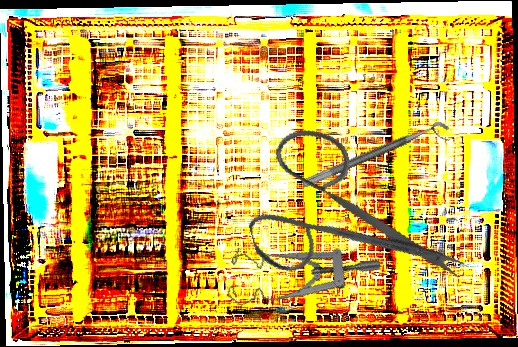Fixation Ring: (300, 118, 455, 200)
Iris Scissors: (228, 97, 468, 329)
Speculum: (219, 217, 383, 343)
